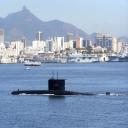submarine: (12, 80, 111, 96)
